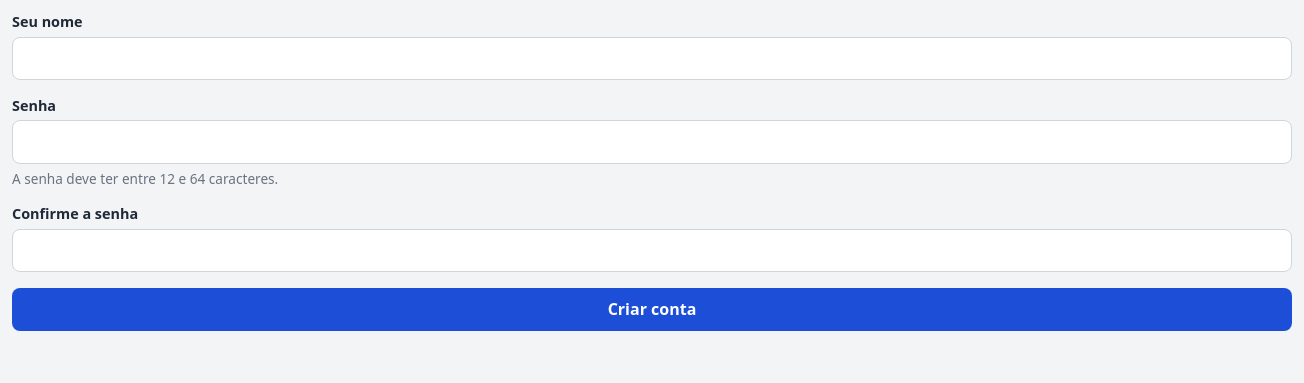
Test case: AcceptInviteForm › explains a used or expired invitation
The image size is (1304, 383).
Type "Ana" into the field labelled "Seu nome" at (652, 58), box [12,37,1292,80]
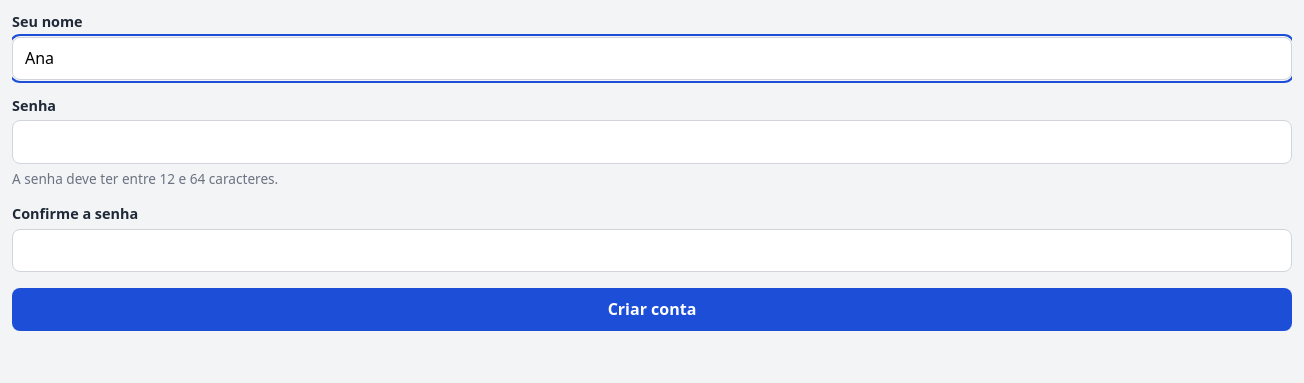
Type "senha do convidado longa" into the password field labelled "Senha" at (652, 142), box [12,120,1292,164]
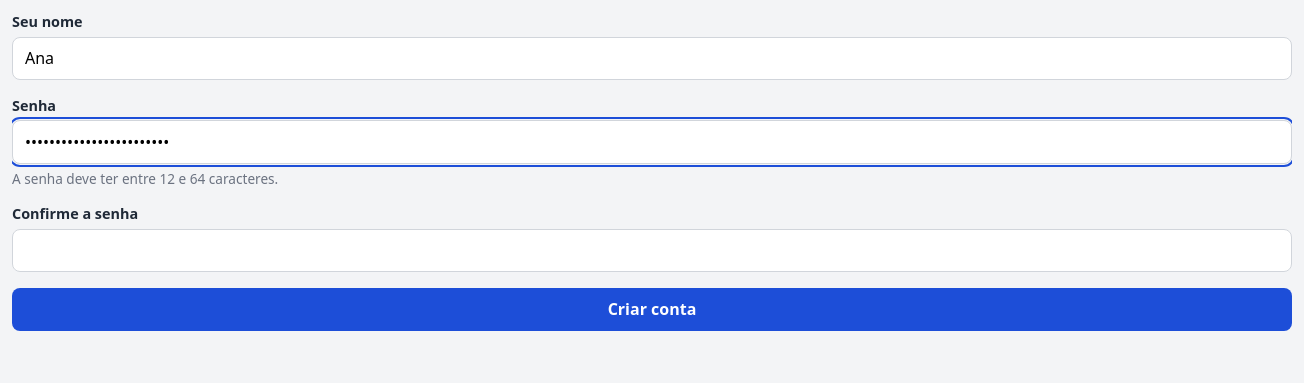
Type "senha do convidado longa" into the password field labelled "Confirme a senha" at (652, 250), box [12,229,1292,272]
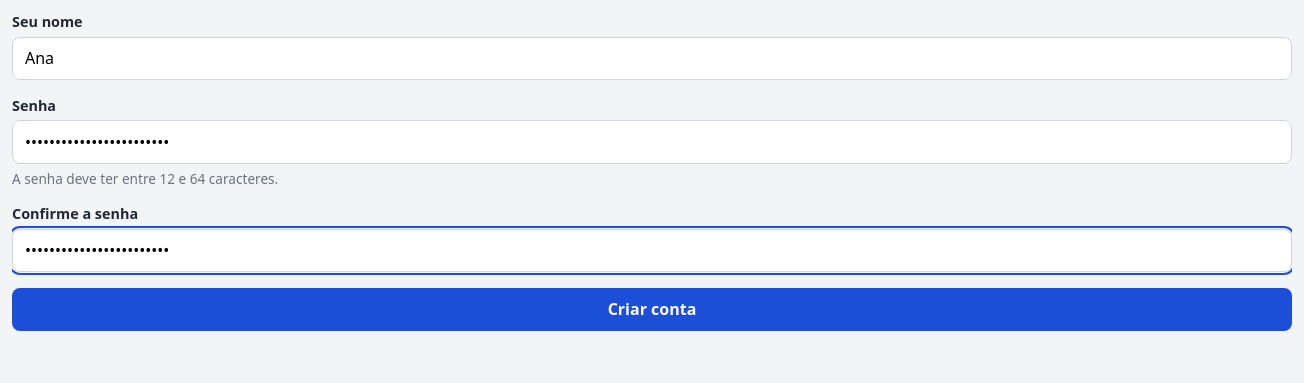
Click the button "Criar conta" at (652, 309), box [12,288,1292,331]
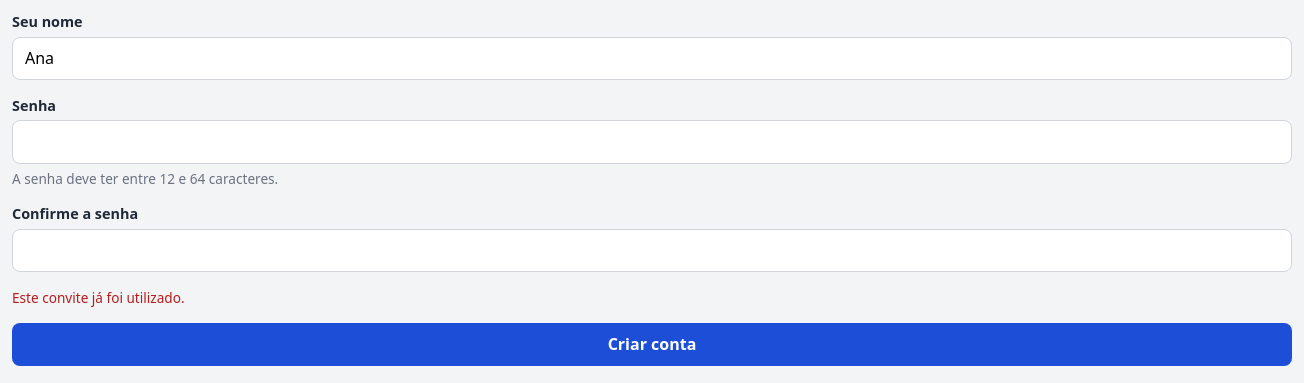
Check: the message reads "Este convite já foi utilizado.", box [12,288,184,307]
